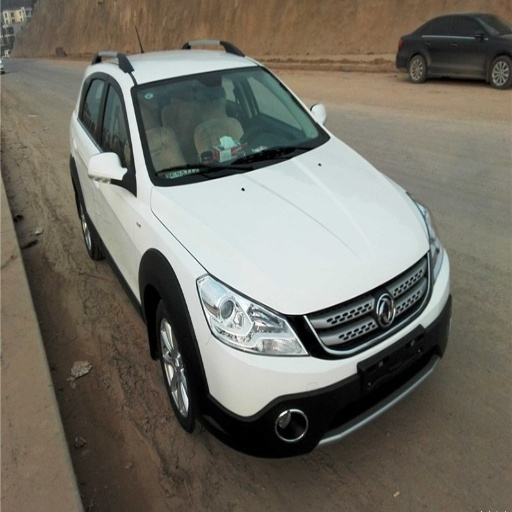front_bumper: (199, 281, 448, 455)
front_right_door: (94, 73, 137, 284)
front_right_light: (198, 274, 307, 354)
hood: (156, 144, 425, 352)
